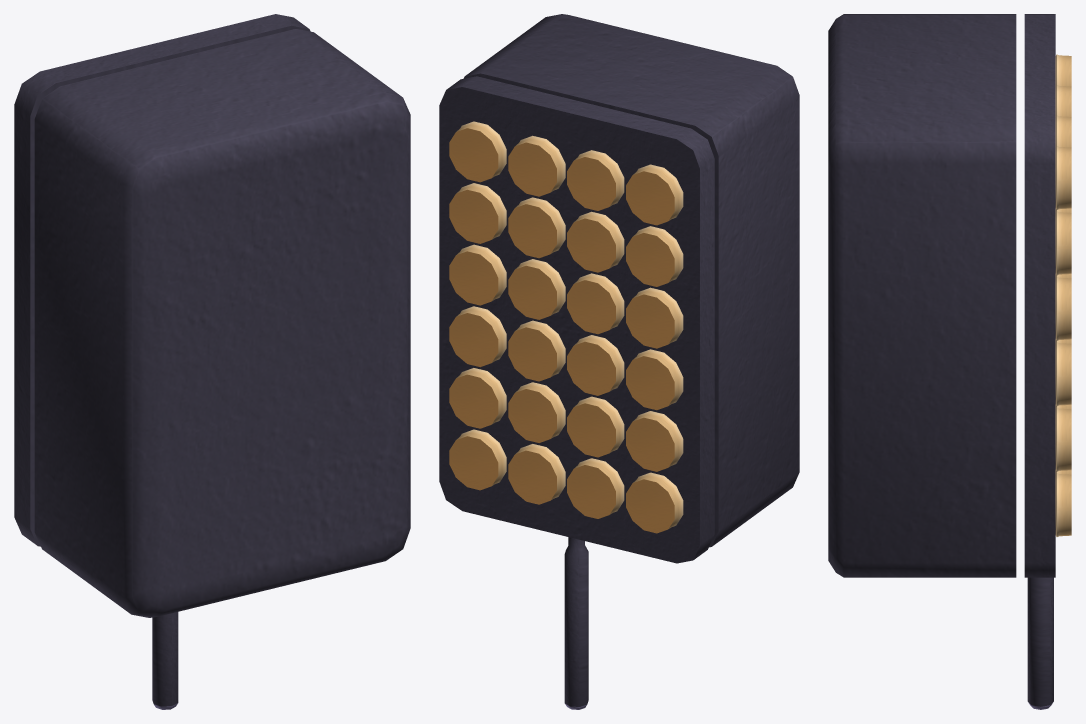
Rendered from Grill Oven.fbx.
The picture shows the model from 3 angles, left to right: view 1: azimuth 30°, elevation 25°; view 2: azimuth 150°, elevation 25°; view 3: azimuth 270°, elevation 25°; orthographic projection. The views are drawn at different scales.
Parts seen in each view (by area): view 1: Grill Oven, Grill Plate; view 2: Grill Plate, Grill Oven, Wheel Cake.010, Wheel Cake.008, Wheel Cake.012, Wheel Cake.015, Wheel Cake.003, Wheel Cake.017, Wheel Cake, Wheel Cake.018, Wheel Cake.023, Wheel Cake.005 (+14 smaller); view 3: Grill Oven, Grill Plate, Wheel Cake.002, Wheel Cake.004, Wheel Cake, Wheel Cake.024, Wheel Cake.003, Wheel Cake.005, Wheel Cake.011, Wheel Cake.023, Wheel Cake.017.
Part boxes in pixels (left/top/right/bottom): Grill Oven: left=34, top=29, right=410, bottom=617; Grill Plate: left=14, top=14, right=310, bottom=709; Grill Plate: left=439, top=76, right=714, bottom=709; Grill Oven: left=463, top=14, right=799, bottom=547; Wheel Cake.010: left=508, top=197, right=565, bottom=258; Wheel Cake.008: left=508, top=320, right=565, bottom=381; Wheel Cake.012: left=567, top=458, right=624, bottom=518; Wheel Cake.015: left=567, top=273, right=624, bottom=334; Wheel Cake.003: left=449, top=244, right=506, bottom=305; Wheel Cake.017: left=567, top=150, right=624, bottom=210; Wheel Cake: left=449, top=368, right=506, bottom=428; Wheel Cake.018: left=626, top=472, right=683, bottom=533; Wheel Cake.023: left=626, top=164, right=683, bottom=225; Wheel Cake.005: left=449, top=121, right=506, bottom=182; Grill Oven: left=828, top=14, right=1016, bottom=577; Grill Plate: left=1024, top=14, right=1055, bottom=709; Wheel Cake.002: left=1055, top=342, right=1071, bottom=406; Wheel Cake.004: left=1055, top=211, right=1071, bottom=275; Wheel Cake: left=1055, top=407, right=1071, bottom=471; Wheel Cake.024: left=1055, top=473, right=1071, bottom=536; Wheel Cake.003: left=1055, top=277, right=1071, bottom=340; Wheel Cake.005: left=1055, top=146, right=1071, bottom=209; Wheel Cake.011: left=1055, top=115, right=1071, bottom=147; Wheel Cake.023: left=1055, top=54, right=1071, bottom=86; Wheel Cake.017: left=1055, top=85, right=1071, bottom=116.
Bounding box in the file's own units: 10.29 × 7.83 × 22.64.
